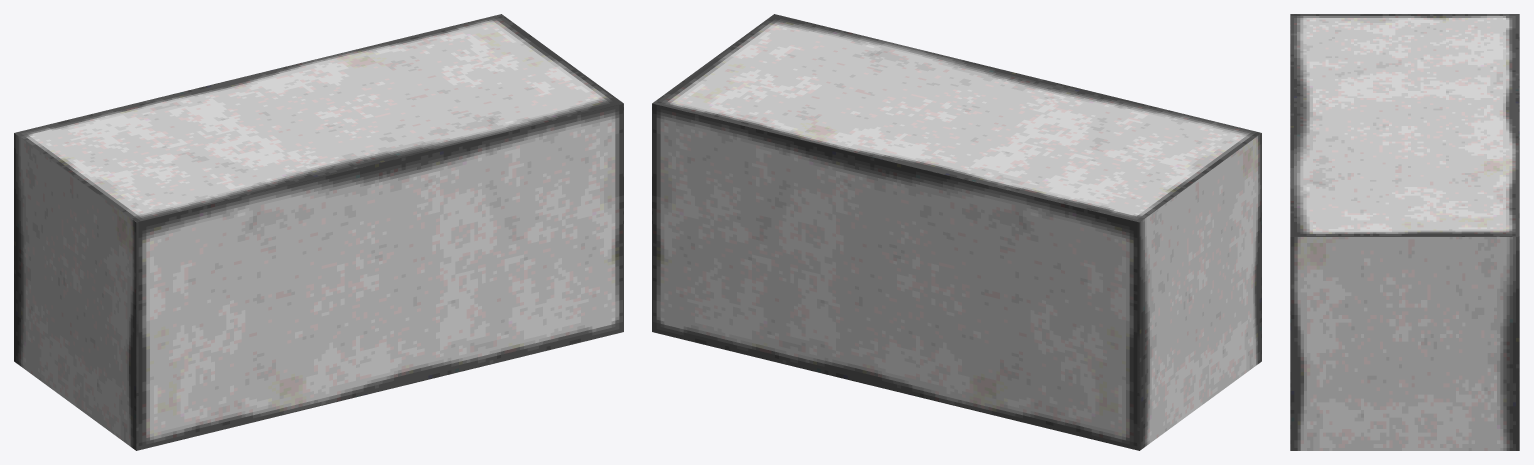
Rendered from brick_2.glb.
The picture shows the model from 3 angles, left to right: view 1: azimuth 30°, elevation 25°; view 2: azimuth 150°, elevation 25°; view 3: azimuth 270°, elevation 25°; orthographic projection. The views are drawn at different scales.
Visible parts, largest first — view 1: Brick_2; view 2: Brick_2; view 3: Brick_2.
Part boxes in pixels (<box>): Brick_2: <box>14,14,623,450</box>; Brick_2: <box>652,14,1261,450</box>; Brick_2: <box>1290,14,1519,450</box>.
Bounding box in the file's own units: 0.5489 × 0.2458 × 0.2385.
Materials: 1 (1 with a texture image).
